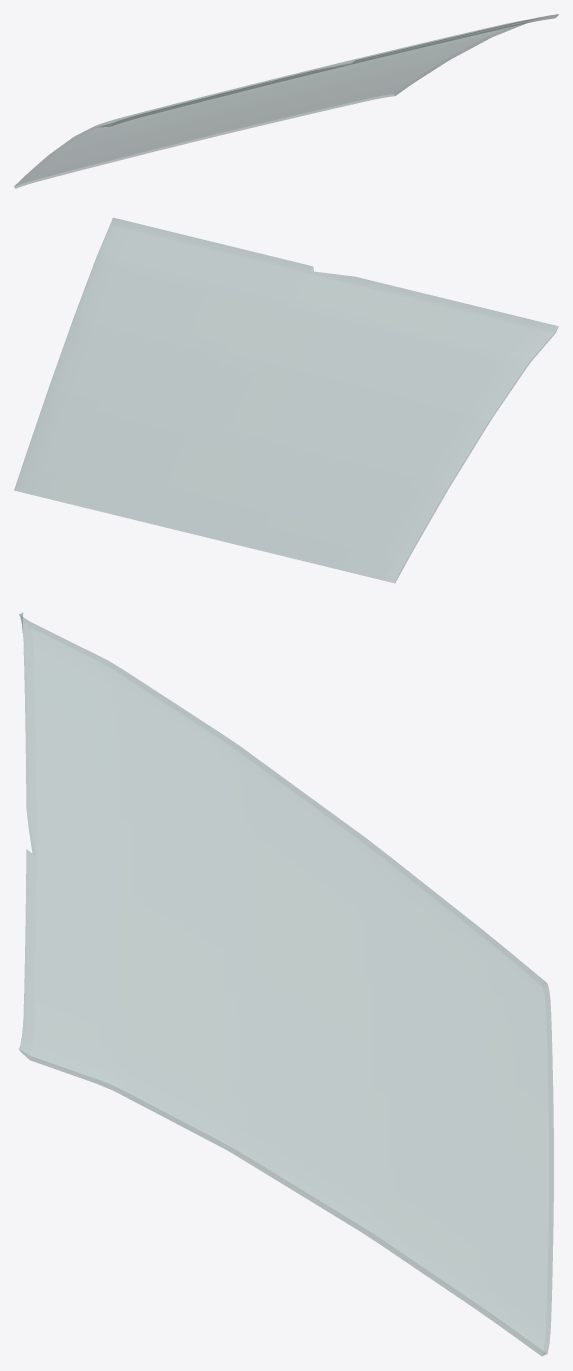
File: para_brisa.glb
3 renders of one model, top to bottom at view 1: azimuth 30°, elevation 25°; view 2: azimuth 150°, elevation 25°; view 3: azimuth 270°, elevation 25°, orthographic. The views are drawn at different scales.
Visible parts, largest first — view 1: para_brisa_vidro; view 2: para_brisa_vidro; view 3: para_brisa_vidro.
Part boxes in pixels (<box>): para_brisa_vidro: <box>14,14,558,188</box>; para_brisa_vidro: <box>14,217,558,583</box>; para_brisa_vidro: <box>19,613,553,1356</box>.
Size of the model in its own units: 1.46 by 0.5373 by 0.7599.
